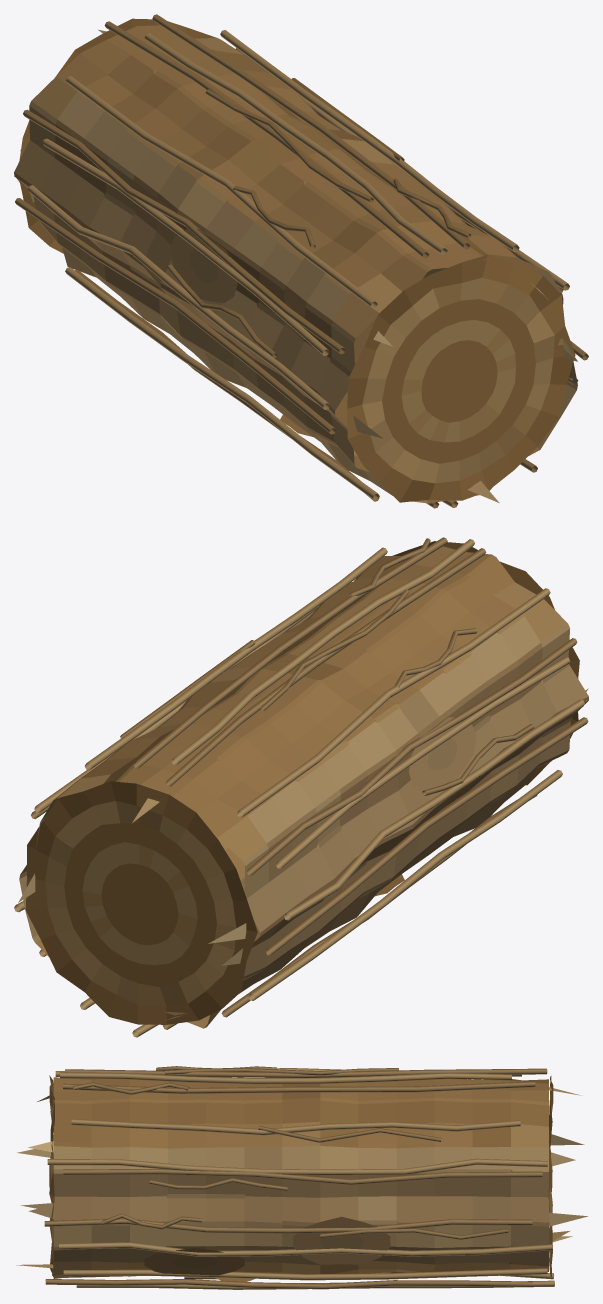
Rendered from OakLog.glb.
3 views of the same model, one above another, from view 1: azimuth 30°, elevation 25°; view 2: azimuth 150°, elevation 25°; view 3: azimuth 270°, elevation 25° (orthographic). The views are drawn at different scales.
Parts seen in each view (by area): view 1: EXPORT_STRONG_Oak_Log_Rough; view 2: EXPORT_STRONG_Oak_Log_Rough; view 3: EXPORT_STRONG_Oak_Log_Rough.
Part boxes in pixels (x1,y1,x2,y2): EXPORT_STRONG_Oak_Log_Rough: (14, 14, 588, 508); EXPORT_STRONG_Oak_Log_Rough: (14, 537, 588, 1037); EXPORT_STRONG_Oak_Log_Rough: (16, 1066, 587, 1289).
Bounding box in the file's own units: 0.2502 × 0.2491 × 0.6385.
